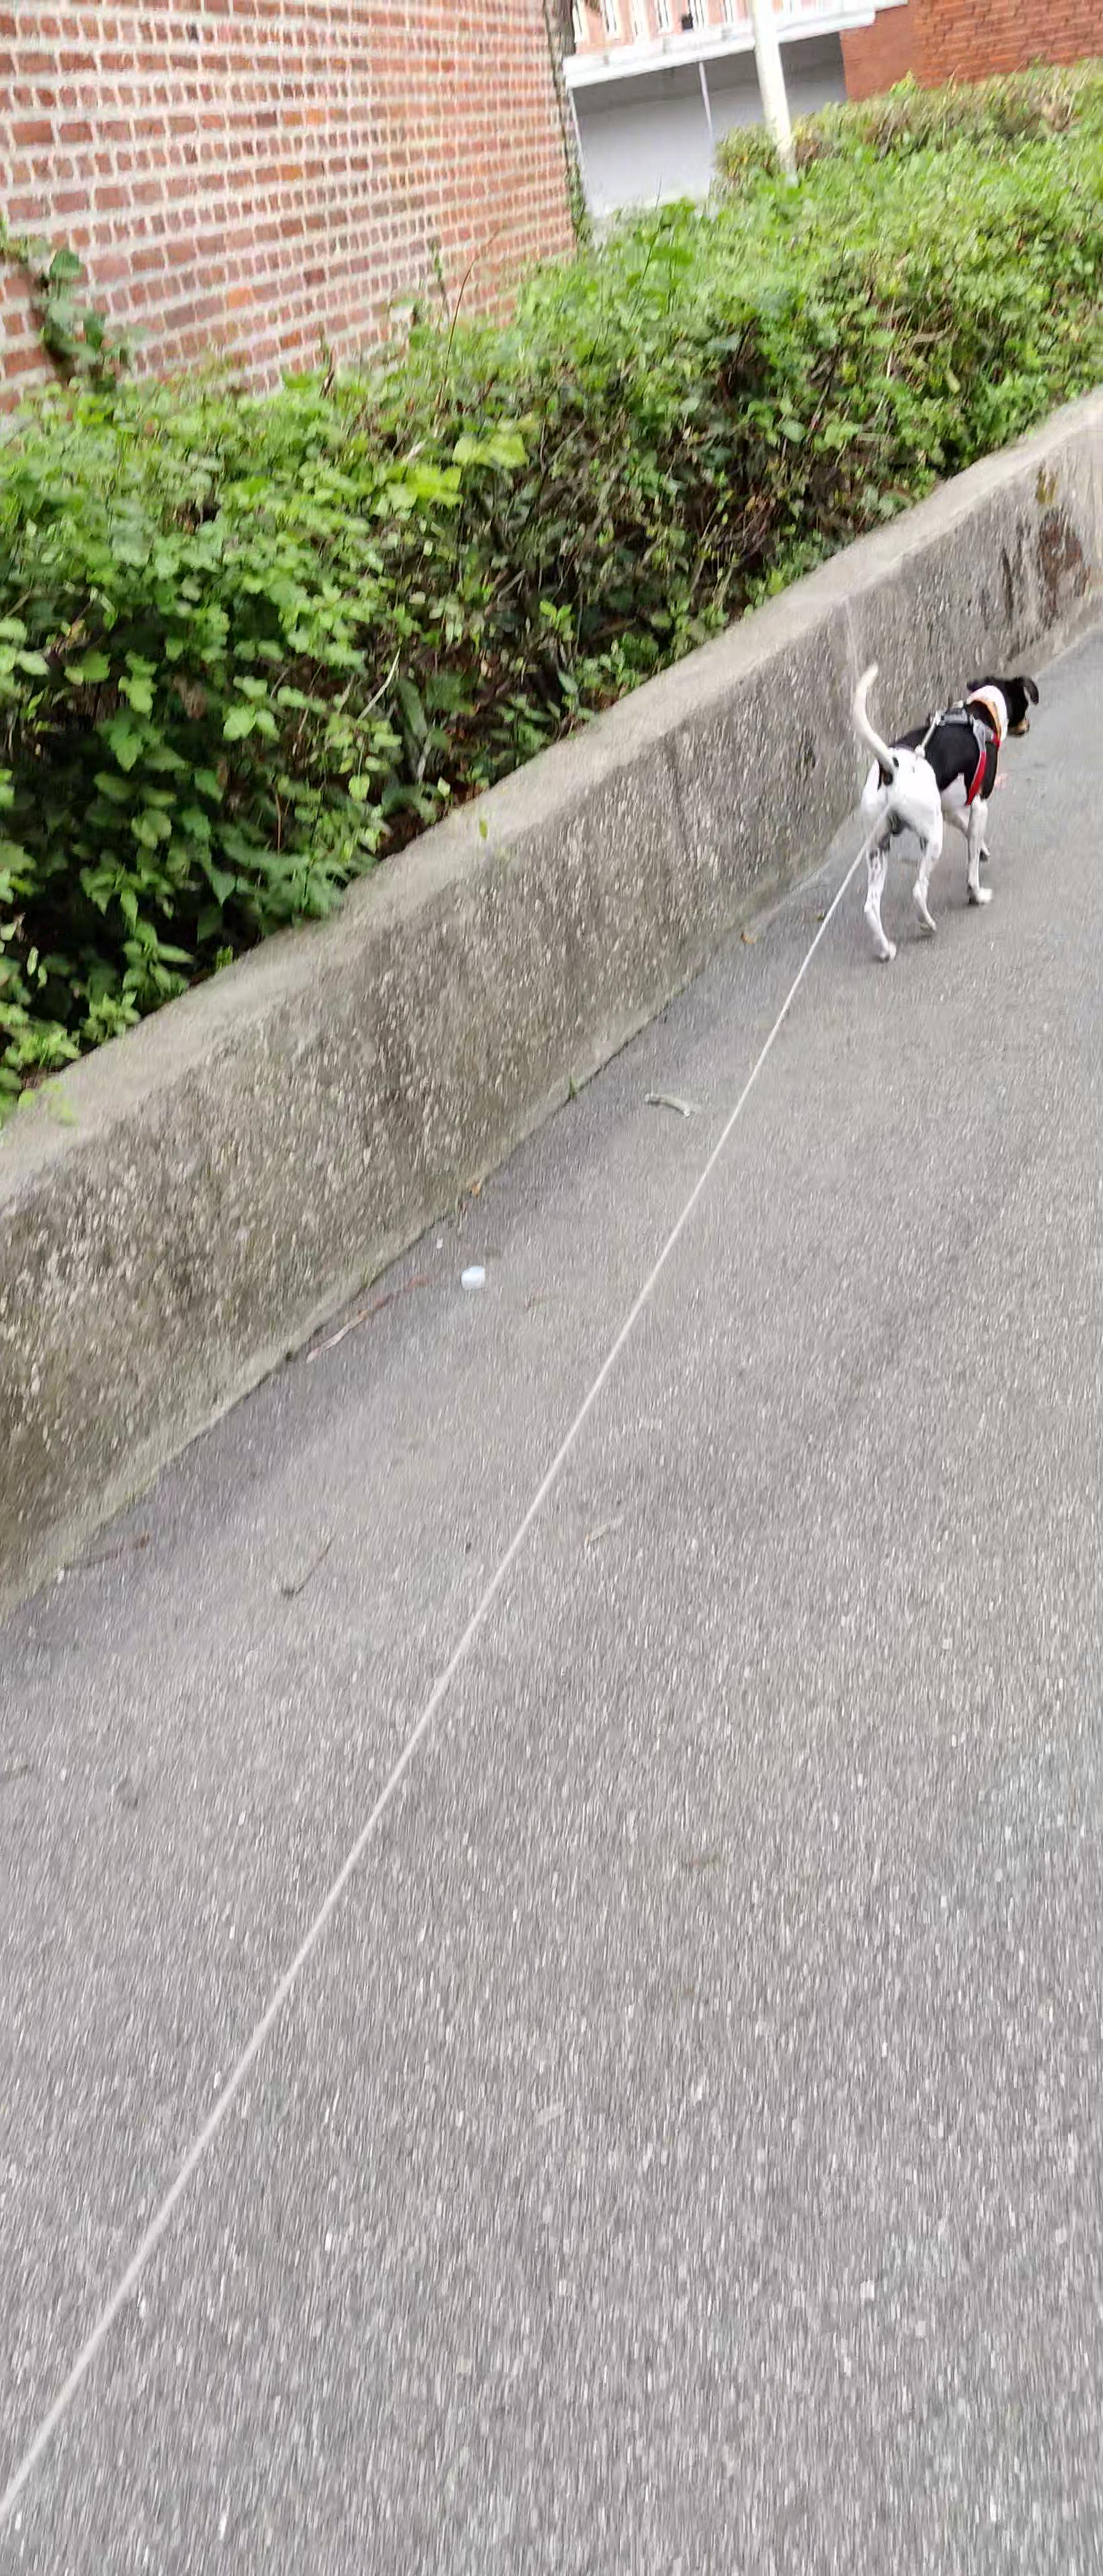Dog: (842, 651, 1044, 963)
